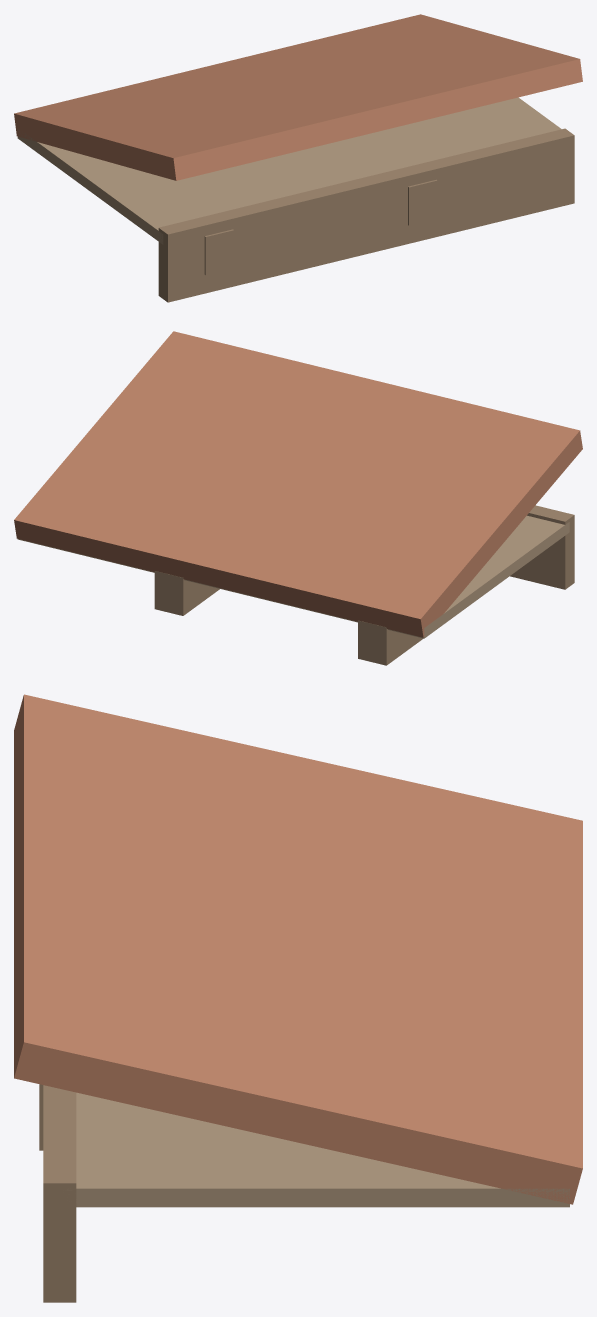
The model's file is sacak_1m.glb.
The picture shows the model from 3 angles, top to bottom: view 1: azimuth 30°, elevation 25°; view 2: azimuth 150°, elevation 25°; view 3: azimuth 270°, elevation 25°; orthographic projection. The views are drawn at different scales.
Parts seen in each view (by area): view 1: sacak_1m; view 2: sacak_1m; view 3: sacak_1m.
Boxes of the visible parts, x1,y1,x2,y2 form: sacak_1m: (14,14,582,302); sacak_1m: (14,331,582,665); sacak_1m: (14,694,582,1302).
Size of the model in its own units: 1 by 0.3489 by 0.6913.
